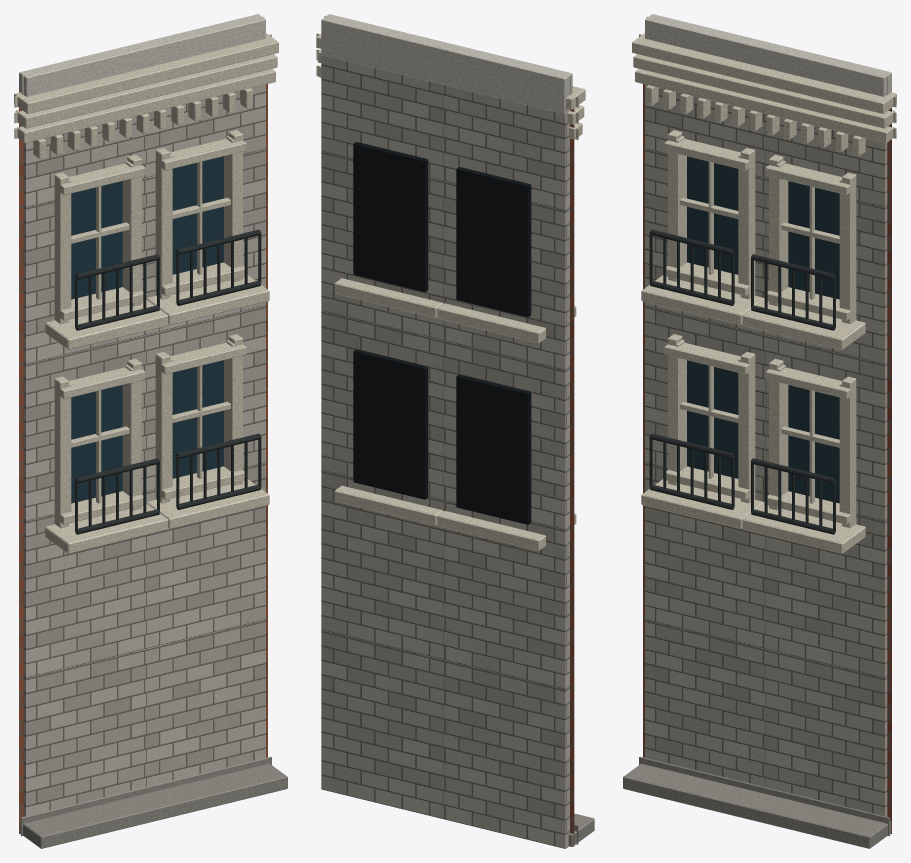
Rendered from RUNDWN16_lod1.glb.
3 views of the same model, side by side, from view 1: azimuth 30°, elevation 25°; view 2: azimuth 150°, elevation 25°; view 3: azimuth 330°, elevation 25° (orthographic).
Parts seen in each view (by area): view 1: RUNDWN16_FRONT_LOD1; view 2: RUNDWN16_FRONT_LOD1; view 3: RUNDWN16_FRONT_LOD1.
Part boxes in pixels (<box>): RUNDWN16_FRONT_LOD1: <box>14,14,287,848</box>; RUNDWN16_FRONT_LOD1: <box>316,14,594,848</box>; RUNDWN16_FRONT_LOD1: <box>623,14,896,848</box>.
Size of the model in its own units: 3.44 by 9.66 by 0.8592.
9 materials, 7 textured.
